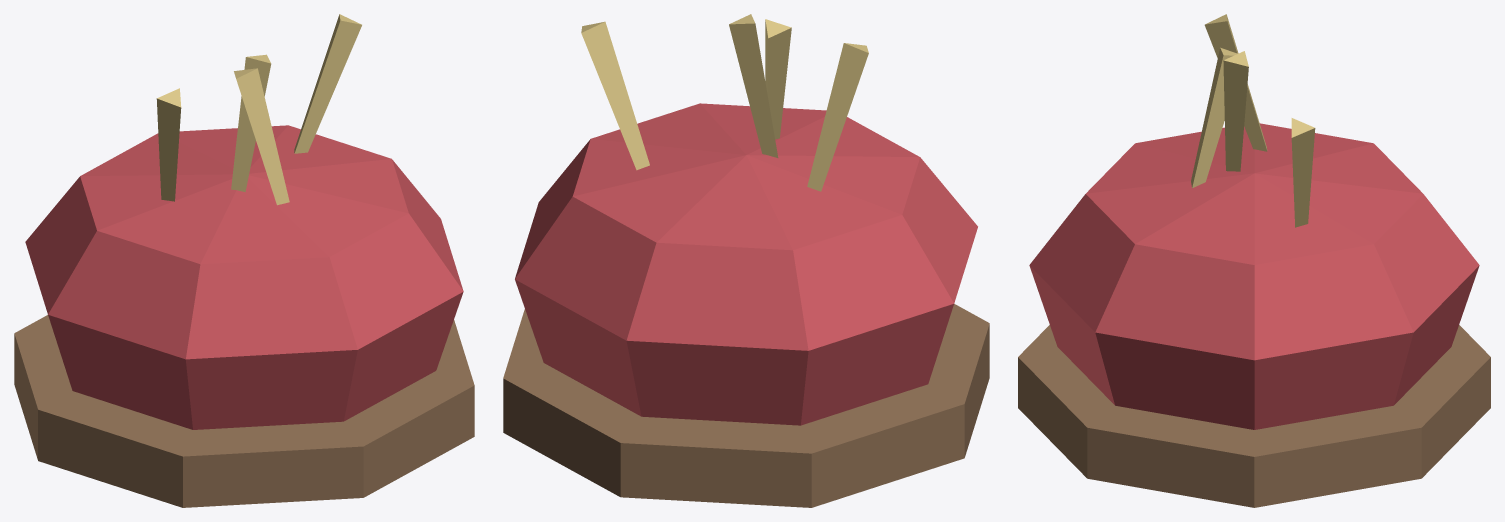
The model's file is prop-pin-cushion-lc1.fbx.
3 views of the same model, side by side, from view 1: azimuth 30°, elevation 25°; view 2: azimuth 150°, elevation 25°; view 3: azimuth 270°, elevation 25° (orthographic). The views are drawn at different scales.
Visible parts, largest first — view 1: prop-pin-cushion-lc1; view 2: prop-pin-cushion-lc1; view 3: prop-pin-cushion-lc1.
Part boxes in pixels (box(x1,y1,x2,y2)): prop-pin-cushion-lc1: box(14, 14, 474, 507); prop-pin-cushion-lc1: box(503, 14, 989, 507); prop-pin-cushion-lc1: box(1018, 14, 1490, 507).
Bounding box in the file's own units: 8.4 × 6.97 × 8.4.
